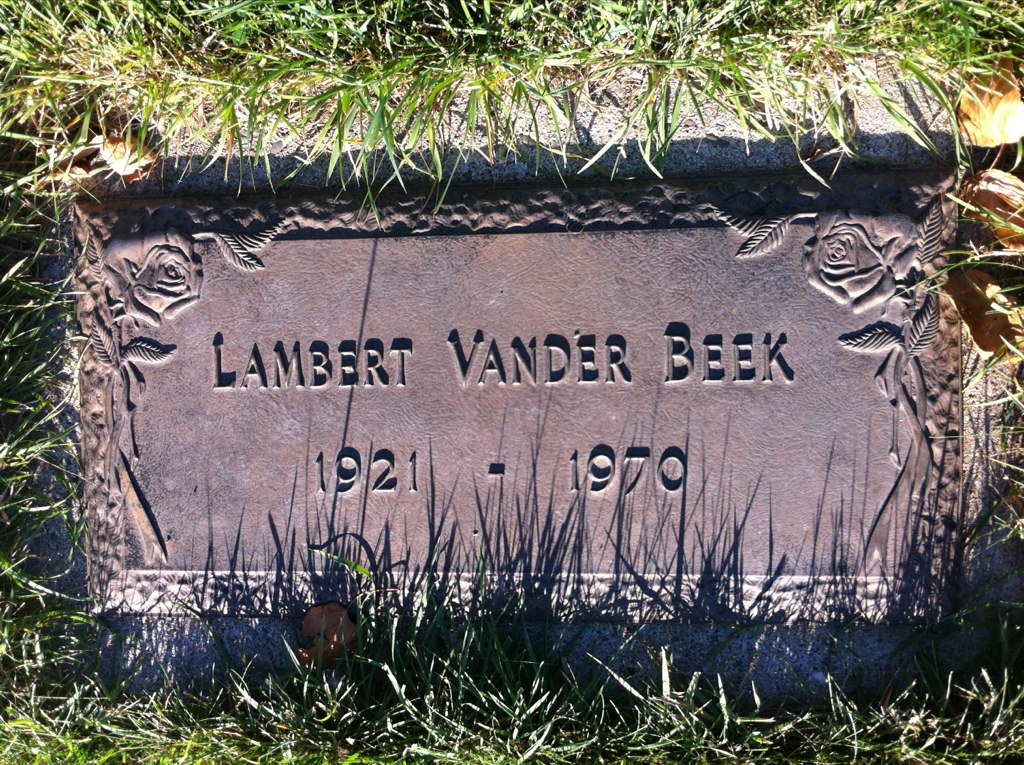flat: (56, 116, 985, 663)
